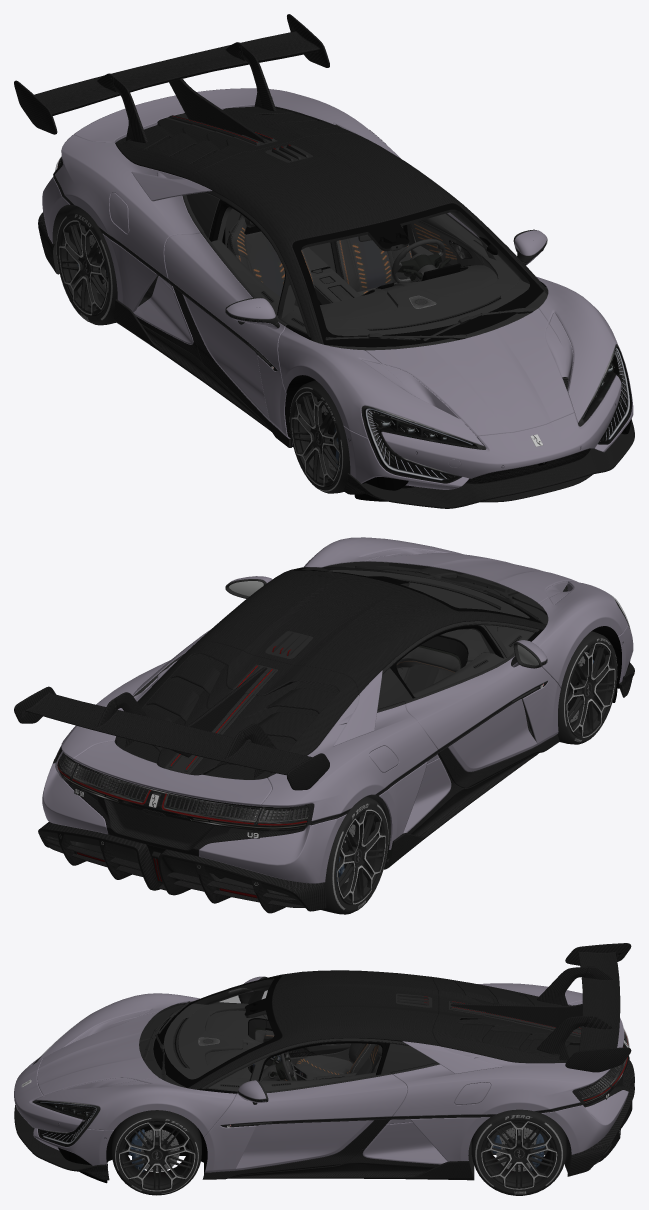
The model's file is 2024_byd_yangwang_u9.opt.glb.
3 views of the same model, one above another, from view 1: azimuth 30°, elevation 25°; view 2: azimuth 150°, elevation 25°; view 3: azimuth 270°, elevation 25° (orthographic). The views are drawn at different scales.
Parts seen in each view (by area): view 1: SM_RearKit_0000.001, SM_FrontKit_0000.001, SM_Interior_0000.001, SM_Base_0000.001, SM_Hood_0000.001, SM_Hub_L_0000.004, SM_Hub_L_0000.003, polySurface2128_Lamborghini_HuracanPerformanteSpyder_2019_Wh, polySurface1806_Lamborghini_HuracanPerformanteSpyder_2019_Wh; view 2: SM_RearKit_0000.001, SM_Base_0000.001, SM_FrontKit_0000.001, SM_Interior_0000.001, SM_Hood_0000.001, SM_Hub_L_0000.004, SM_Hub_L_0000.003, polySurface2128_Lamborghini_HuracanPerformanteSpyder_2019_Wh, polySurface1806_Lamborghini_HuracanPerformanteSpyder_2019_Wh; view 3: SM_RearKit_0000.001, SM_Base_0000.001, SM_FrontKit_0000.001, SM_Interior_0000.001, SM_Hood_0000.001, SM_Hub_L_0000.002, SM_Hub_L_0000.001, polySurface1968_Lamborghini_HuracanPerformanteSpyder_2019_Wh, polySurface1645_Lamborghini_HuracanPerformanteSpyder_2019_Wh, SM_Disk_L_0000.001, SM_Disk_L_0000_Morph000_BD_HR_F.001.
Part boxes in pixels (x1=…): SM_RearKit_0000.001: x1=14, y1=14, x2=548, y2=446; SM_FrontKit_0000.001: x1=278, y1=276, x2=634, y2=508; SM_Interior_0000.001: x1=209, y1=199, x2=543, y2=447; SM_Base_0000.001: x1=164, y1=200, x2=547, y2=447; SM_Hood_0000.001: x1=365, y1=308, x2=574, y2=436; SM_Hub_L_0000.004: x1=59, y1=220, x2=108, y2=315; SM_Hub_L_0000.003: x1=291, y1=391, x2=340, y2=486; polySurface2128_Lamborghini_HuracanPerformanteSpyder_2019_Wh: x1=56, y1=212, x2=113, y2=323; polySurface1806_Lamborghini_HuracanPerformanteSpyder_2019_Wh: x1=289, y1=386, x2=343, y2=491; SM_RearKit_0000.001: x1=14, y1=561, x2=548, y2=913; SM_Base_0000.001: x1=225, y1=576, x2=560, y2=788; SM_FrontKit_0000.001: x1=304, y1=537, x2=634, y2=702; SM_Interior_0000.001: x1=294, y1=567, x2=542, y2=698; SM_Hood_0000.001: x1=365, y1=553, x2=574, y2=603; SM_Hub_L_0000.004: x1=336, y1=809, x2=385, y2=904; SM_Hub_L_0000.003: x1=566, y1=642, x2=615, y2=737; polySurface2128_Lamborghini_HuracanPerformanteSpyder_2019_Wh: x1=331, y1=801, x2=388, y2=912; polySurface1806_Lamborghini_HuracanPerformanteSpyder_2019_Wh: x1=563, y1=637, x2=617, y2=742; SM_RearKit_0000.001: x1=139, y1=943, x2=634, y2=1180; SM_Base_0000.001: x1=202, y1=976, x2=407, y2=1179; SM_FrontKit_0000.001: x1=14, y1=993, x2=237, y2=1183; SM_Interior_0000.001: x1=153, y1=976, x2=389, y2=1091; SM_Hood_0000.001: x1=37, y1=1011, x2=158, y2=1095; SM_Hub_L_0000.002: x1=481, y1=1120, x2=557, y2=1189; SM_Hub_L_0000.001: x1=118, y1=1121, x2=195, y2=1191; polySurface1968_Lamborghini_HuracanPerformanteSpyder_2019_Wh: x1=474, y1=1113, x2=563, y2=1195; polySurface1645_Lamborghini_HuracanPerformanteSpyder_2019_Wh: x1=114, y1=1117, x2=199, y2=1194; SM_Disk_L_0000.001: x1=496, y1=1127, x2=537, y2=1171; SM_Disk_L_0000_Morph000_BD_HR_F.001: x1=141, y1=1129, x2=179, y2=1172.
Size of the model in its own units: 0.0209 by 0.0123 by 0.0449.
17 materials, 12 textured.
